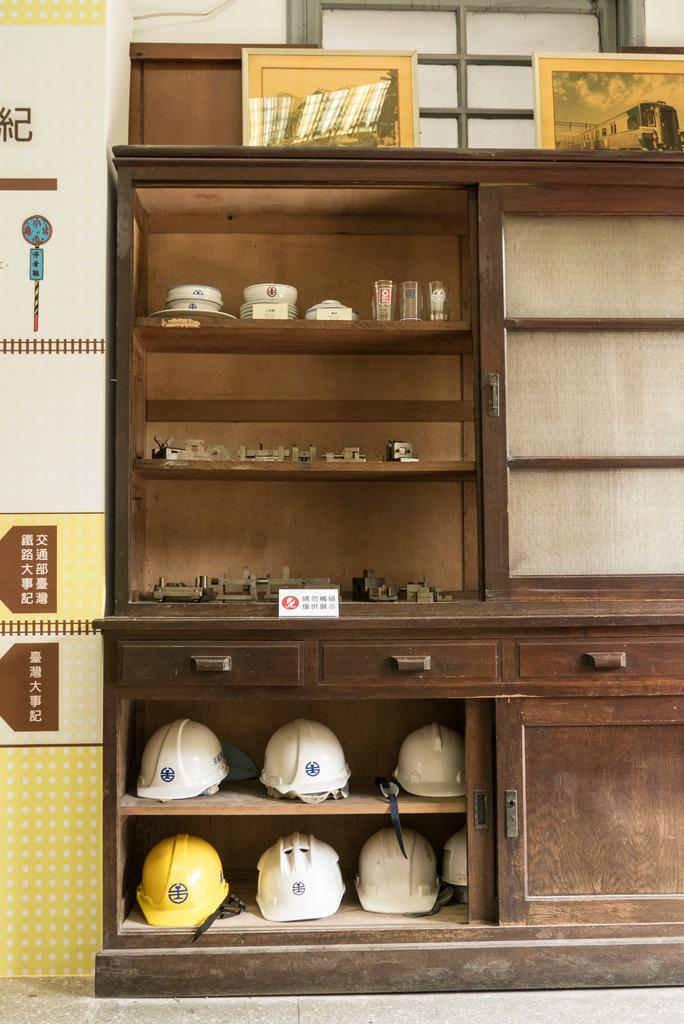cabinet_door: (479, 196, 684, 592), (498, 702, 684, 920), (519, 637, 684, 690), (321, 642, 500, 690), (121, 642, 298, 688), (467, 704, 496, 912)
handle: (580, 646, 628, 682), (390, 647, 433, 684), (188, 642, 231, 678), (470, 784, 489, 830), (507, 784, 520, 838), (486, 376, 500, 422)
